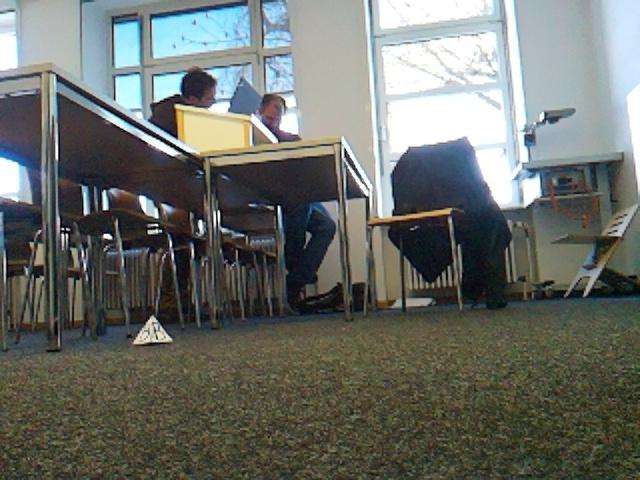B: (134, 315, 171, 344)
